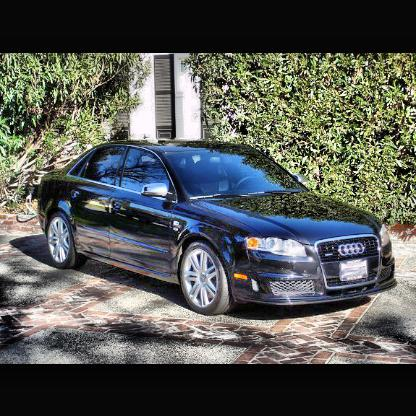Audi S4 Sedan 2007: (39, 142, 400, 317)
